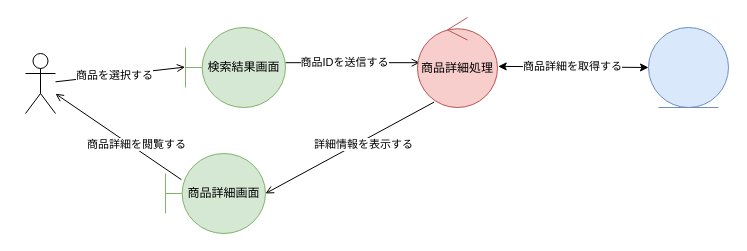
Image size: 747x251. Some labels were removed from this diagram. Here are the shapes that lost their labels. From the top down, the centre of each, then its label:
At point (40, 83): "ユーザー".
At point (688, 67): "商品データベース".
